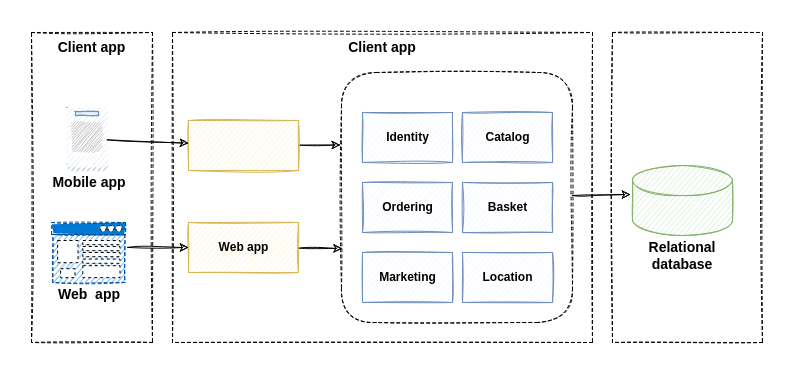
The diagram is 789 pixels wide and 372 high, and some of its shapes have lost their labels. Each missing label, with the box of its shape:
API: (188, 120, 298, 170)
Infrastructure: (612, 32, 762, 342)
Modules: (340, 72, 572, 322)
